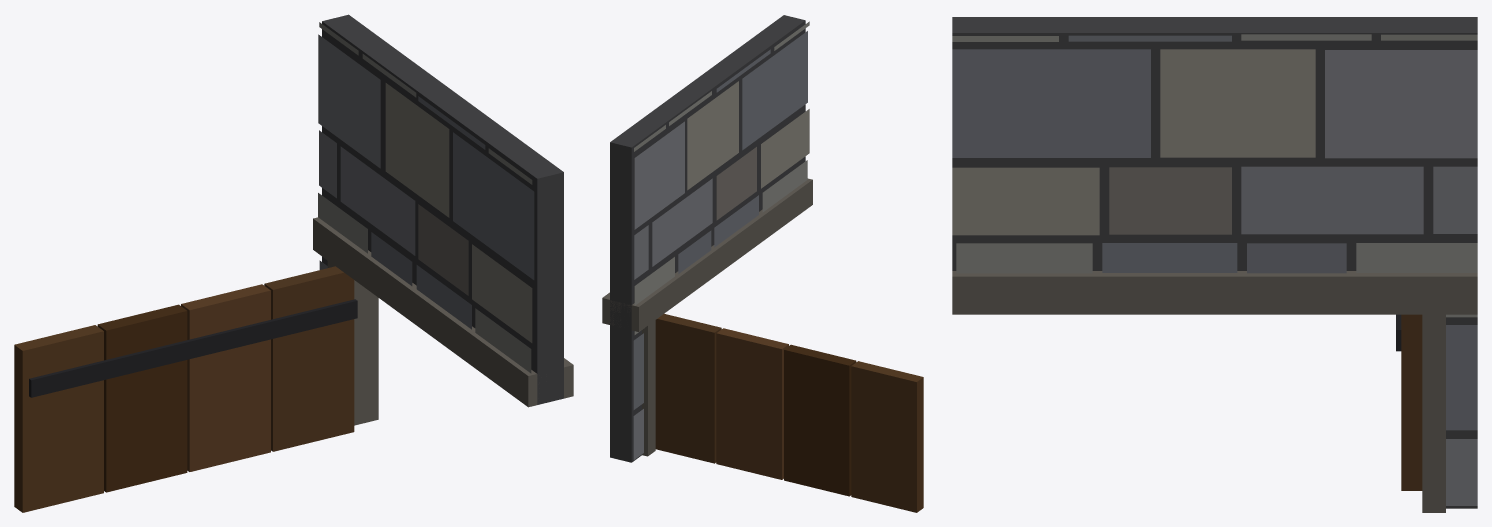
File: wall-stone-door-open-high-l.glb
The picture shows the model from 3 angles, left to right: view 1: azimuth 30°, elevation 25°; view 2: azimuth 150°, elevation 25°; view 3: azimuth 270°, elevation 25°; orthographic projection. The views are drawn at different scales.
Visible parts, largest first — view 1: wall-stone-door-open-high-l; view 2: wall-stone-door-open-high-l; view 3: wall-stone-door-open-high-l.
Part boxes in pixels (x1=…): wall-stone-door-open-high-l: x1=14, y1=14, x2=573, y2=512; wall-stone-door-open-high-l: x1=602, y1=15, x2=923, y2=512; wall-stone-door-open-high-l: x1=952, y1=17, x2=1477, y2=512.
Bounding box in the file's own units: 0.984 × 1 × 1.
